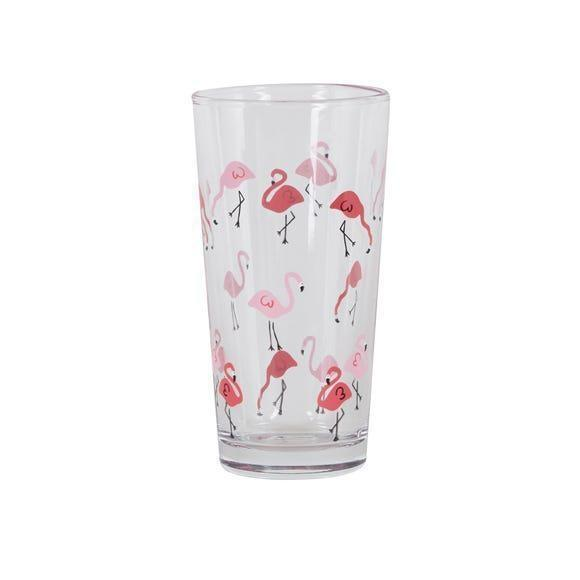glass-normal: (189, 80, 395, 476)
